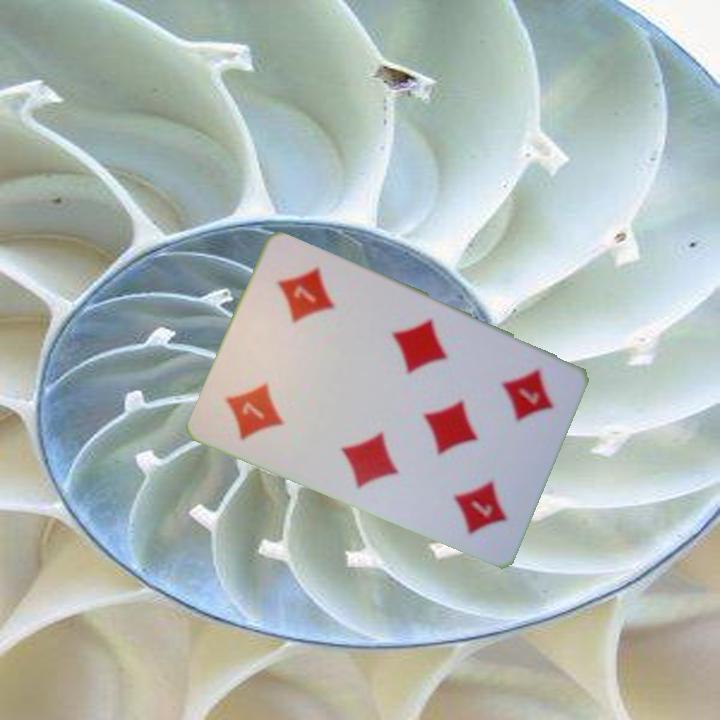d_7.png: (458, 339, 574, 463), (204, 336, 320, 459)
